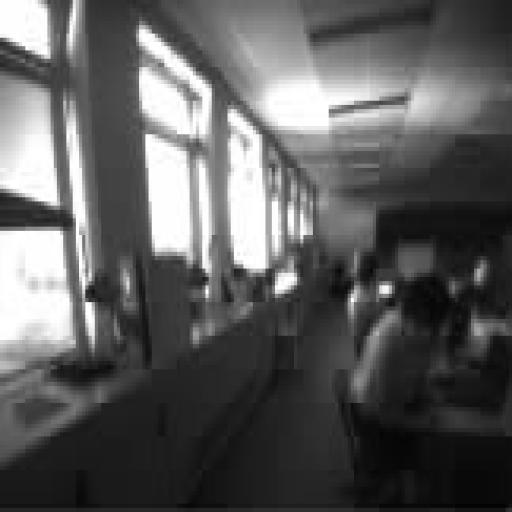human: (348, 273, 448, 474), (351, 273, 451, 415), (455, 251, 512, 342), (348, 252, 382, 356)
